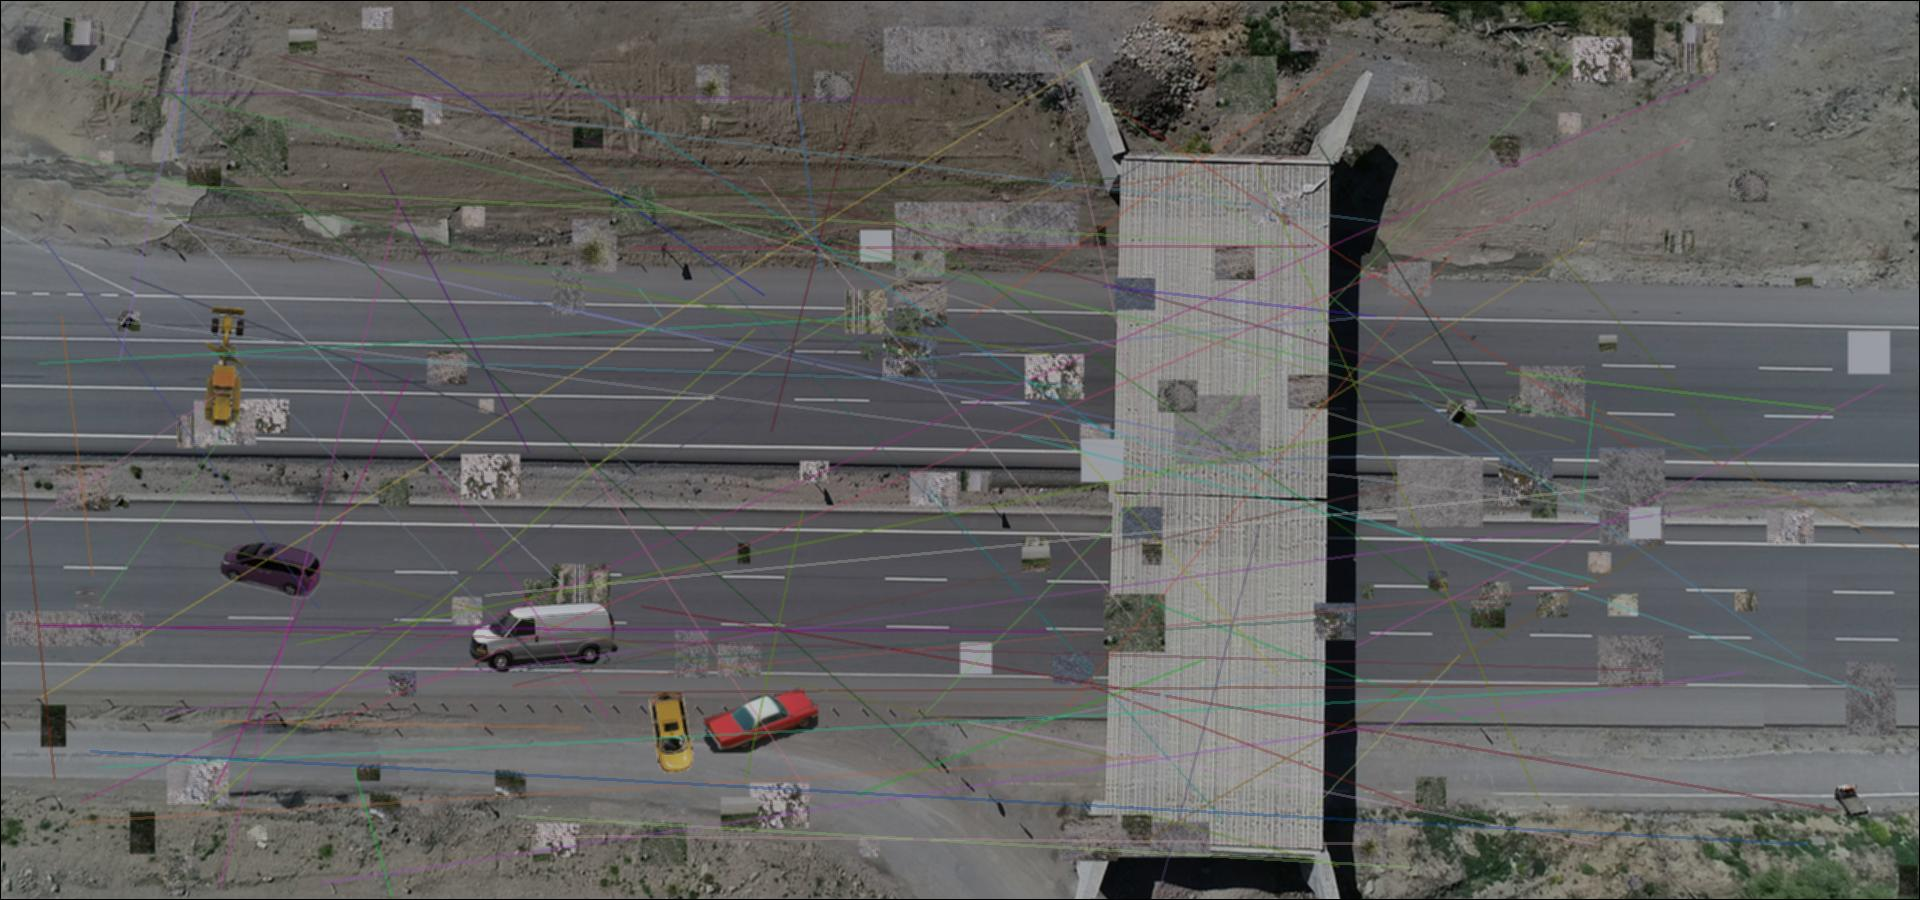arac: (470, 602, 620, 672), (704, 688, 818, 753), (219, 541, 323, 599), (202, 304, 249, 427), (643, 691, 697, 776), (1833, 784, 1870, 817)
